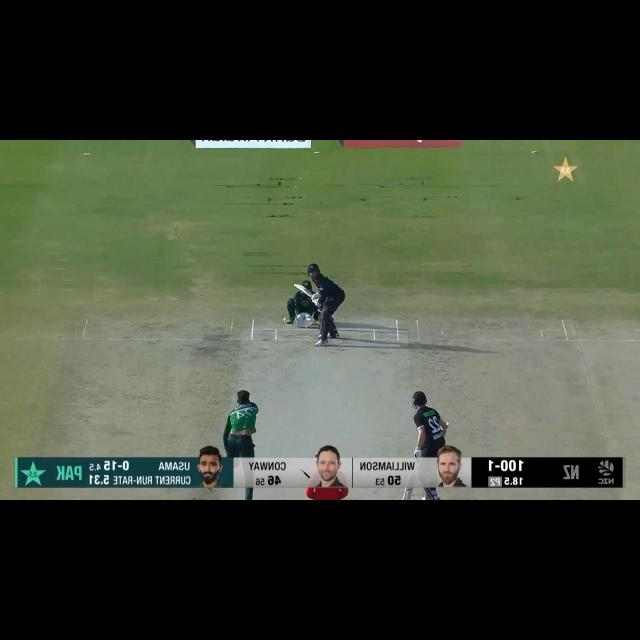bat: (290, 280, 314, 298), (406, 486, 414, 498)
toe: (402, 487, 413, 500), (290, 282, 304, 289)
